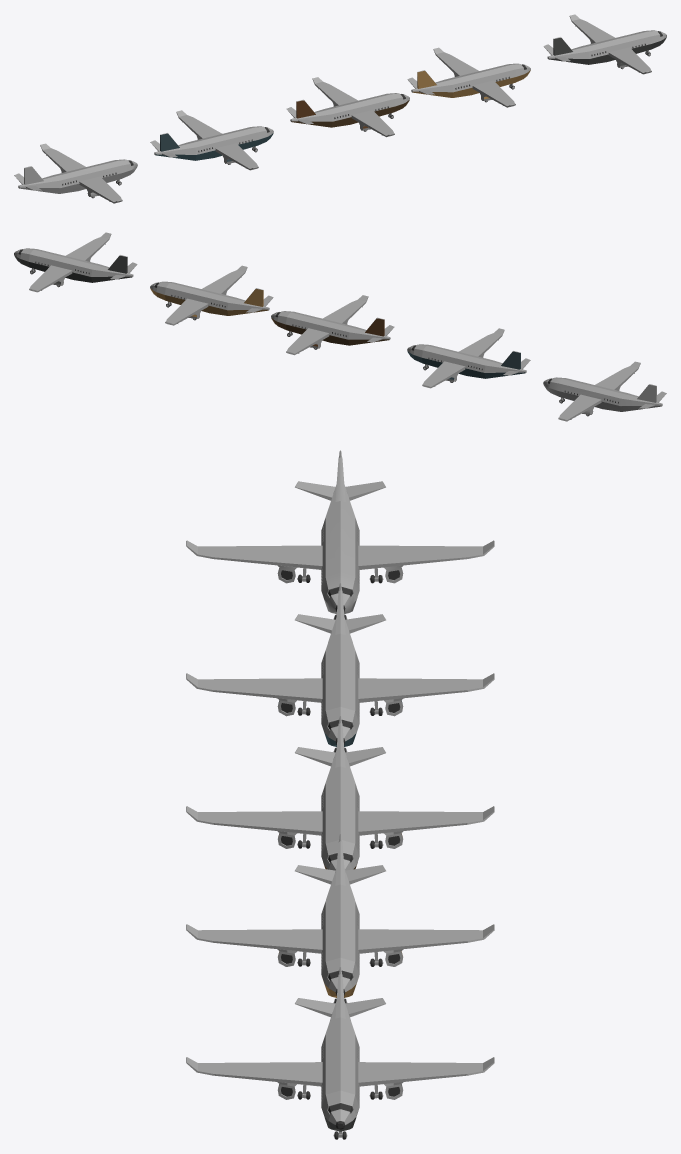
File: AirBus A330.fbx
The picture shows the model from 3 angles, top to bottom: view 1: azimuth 30°, elevation 25°; view 2: azimuth 150°, elevation 25°; view 3: azimuth 270°, elevation 25°; orthographic projection. The views are drawn at different scales.
Parts seen in each view (by area): view 1: AirBus Black, AirBus, AirBus Brown, AirBus Blue, AirBus Yellow; view 2: AirBus Black, AirBus, AirBus Blue, AirBus Brown, AirBus Yellow; view 3: AirBus Black, AirBus Yellow, AirBus Blue, AirBus, AirBus Brown.
Boxes of the visible parts, left/top/right/bottom form: AirBus Black: left=543, top=14, right=666, bottom=74; AirBus: left=14, top=143, right=137, bottom=203; AirBus Brown: left=286, top=77, right=409, bottom=137; AirBus Blue: left=150, top=110, right=273, bottom=170; AirBus Yellow: left=407, top=47, right=530, bottom=107; AirBus Black: left=14, top=232, right=137, bottom=292; AirBus: left=543, top=361, right=666, bottom=421; AirBus Blue: left=407, top=328, right=530, bottom=388; AirBus Brown: left=271, top=295, right=394, bottom=355; AirBus Yellow: left=150, top=265, right=273, bottom=325; AirBus Black: left=186, top=967, right=494, bottom=1137; AirBus Yellow: left=186, top=834, right=494, bottom=997; AirBus Blue: left=186, top=583, right=494, bottom=746; AirBus: left=186, top=450, right=494, bottom=613; AirBus Brown: left=186, top=716, right=494, bottom=870.
Bounding box in the file's own units: 150 × 8.84 × 30.91.
